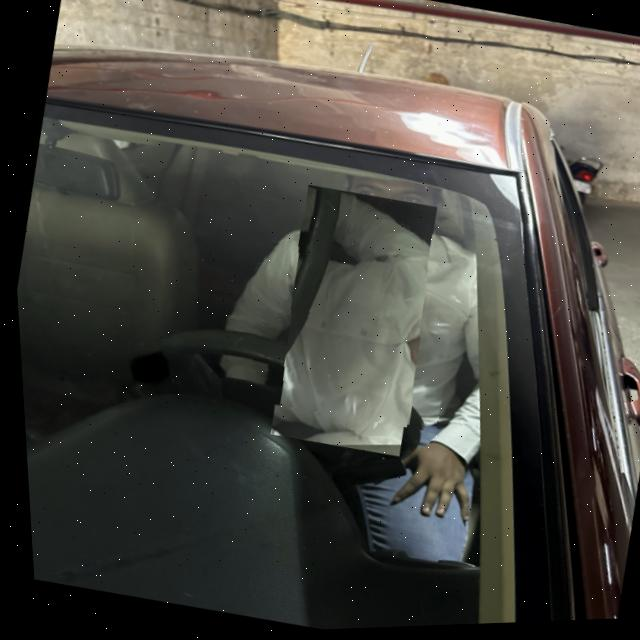no-seatbelt: (229, 204, 470, 441)
